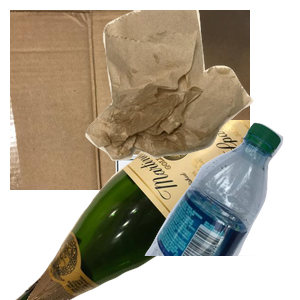cardboard: (10, 10, 250, 190)
glass: (13, 120, 253, 300)
plastic: (142, 120, 300, 300)
trash: (83, 10, 300, 163)
